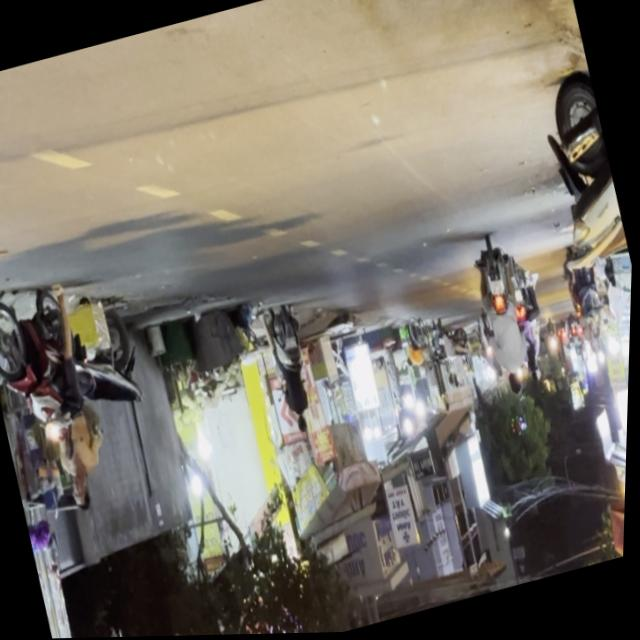licenseplate: (0, 271, 124, 532)
motorcyclist: (67, 469, 98, 516)
